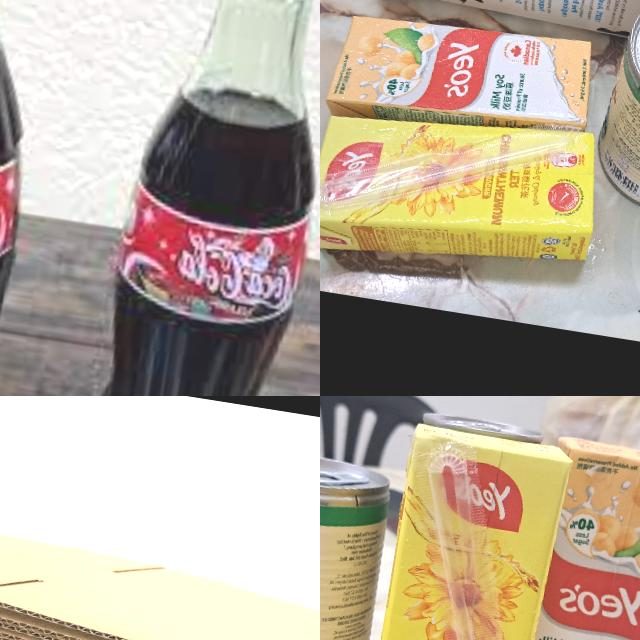caixinha: (320, 89, 608, 290), (358, 421, 575, 640), (321, 2, 598, 154), (511, 433, 640, 640)
garrafa de vidro: (68, 0, 320, 396), (0, 0, 79, 396)
lata: (320, 441, 395, 640), (588, 0, 640, 226)
papelão: (0, 508, 320, 640)
